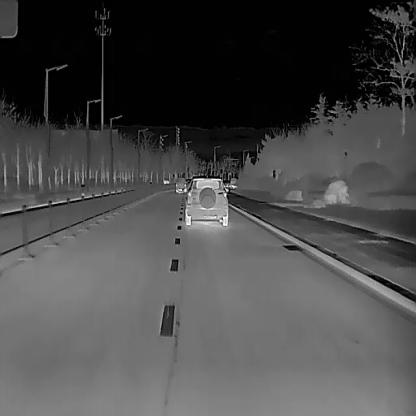car: (184, 175, 227, 225), (175, 176, 186, 192), (163, 178, 169, 184)
